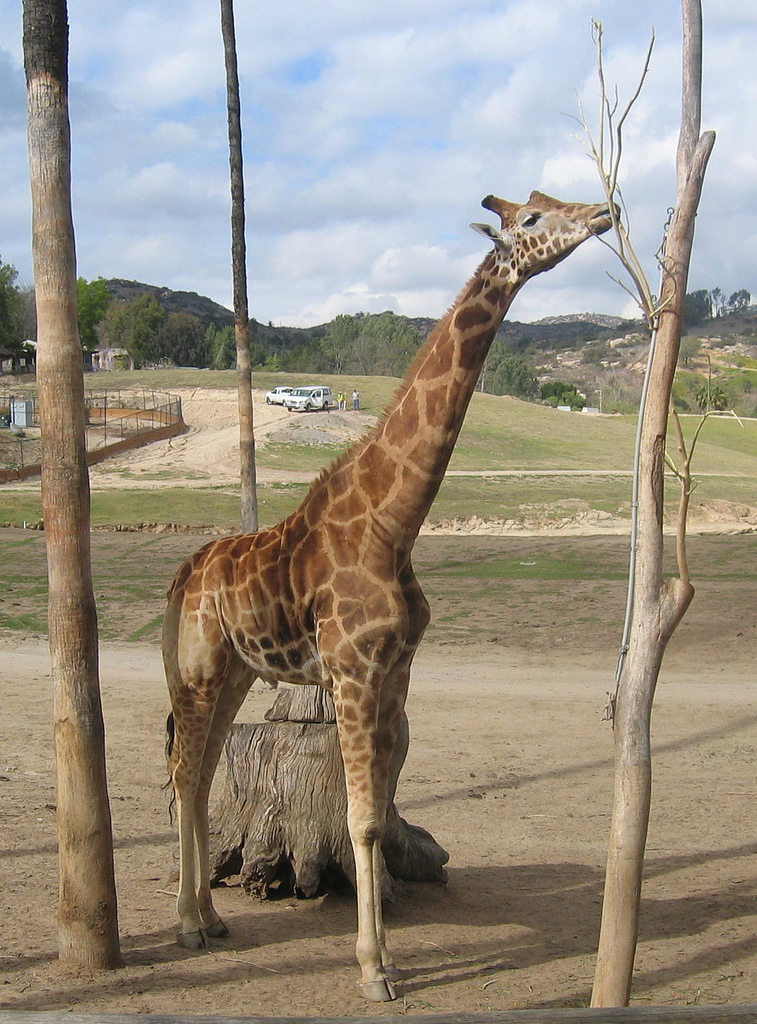giraffe: (134, 178, 660, 969)
